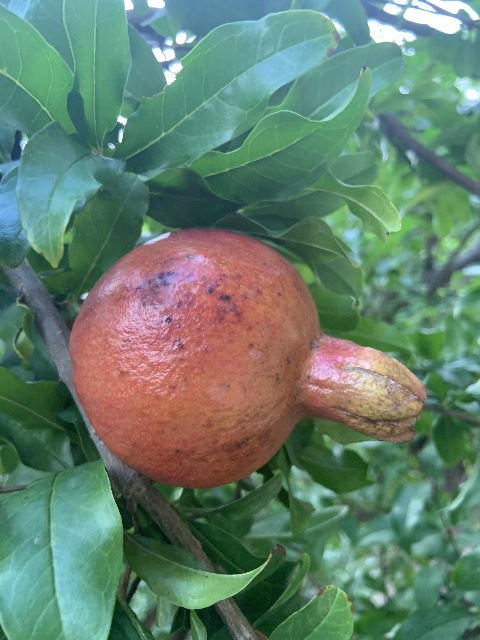ripe: (64, 226, 426, 487)
